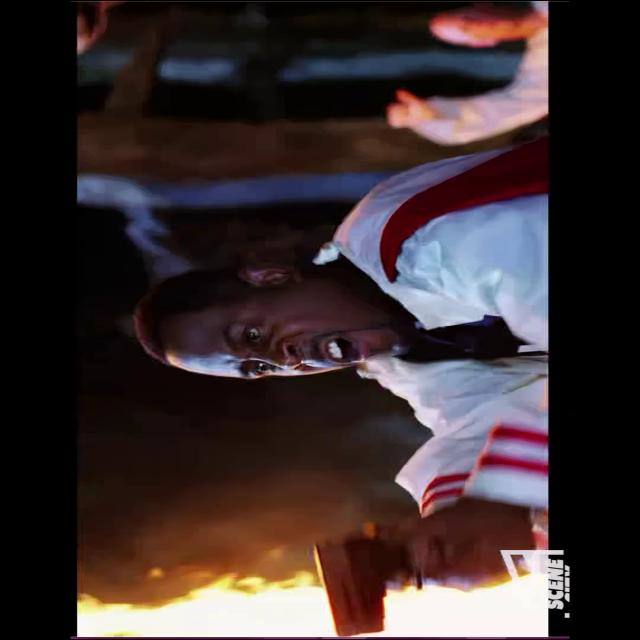weapons: (300, 501, 484, 640)
